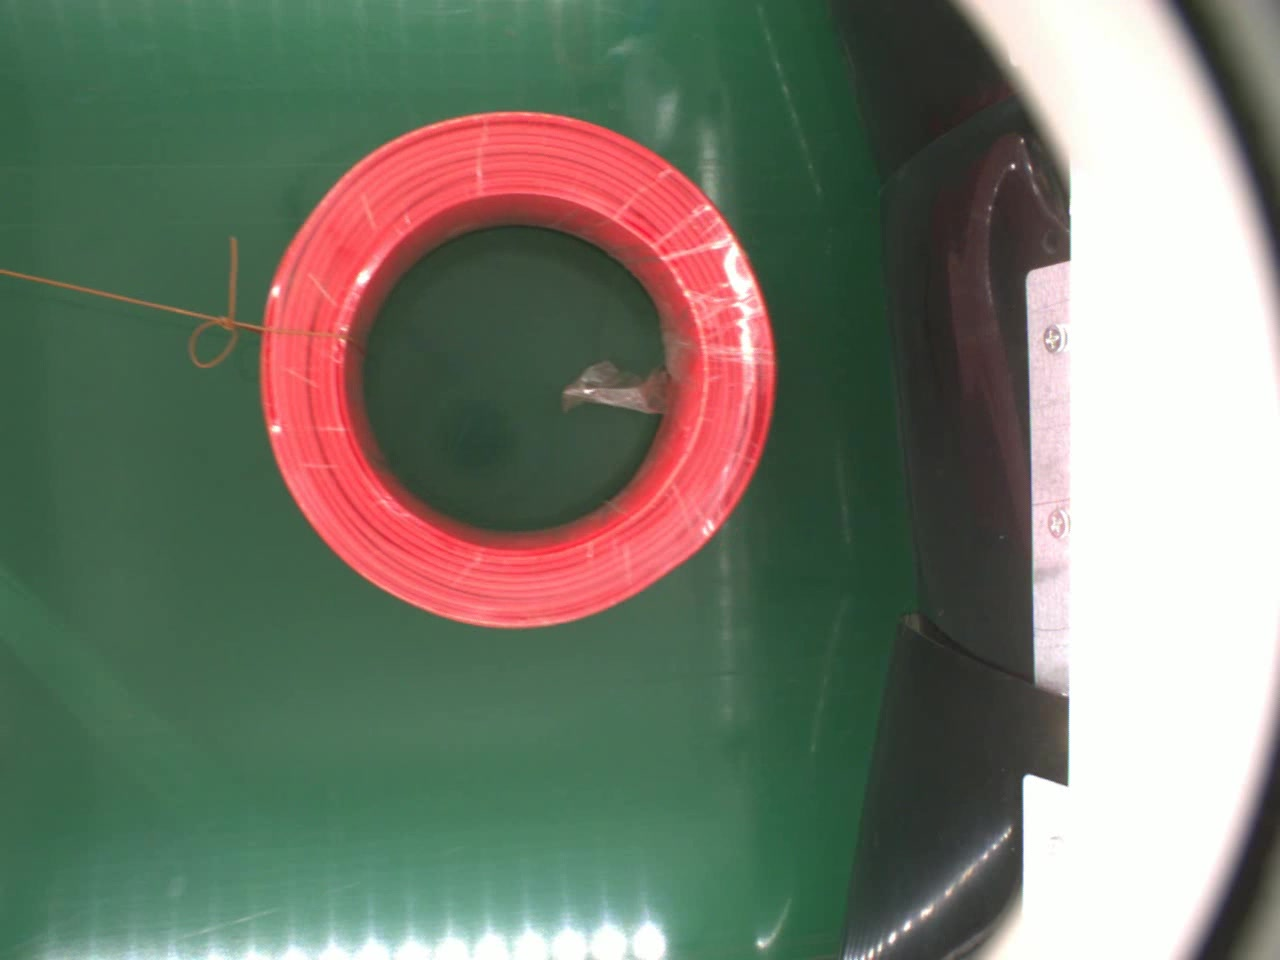red: (249, 104, 783, 630)
